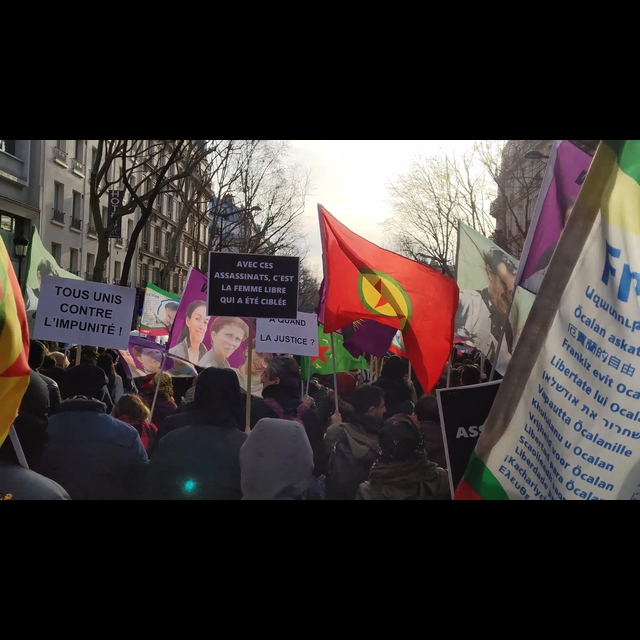PKK: (345, 261, 421, 333)
